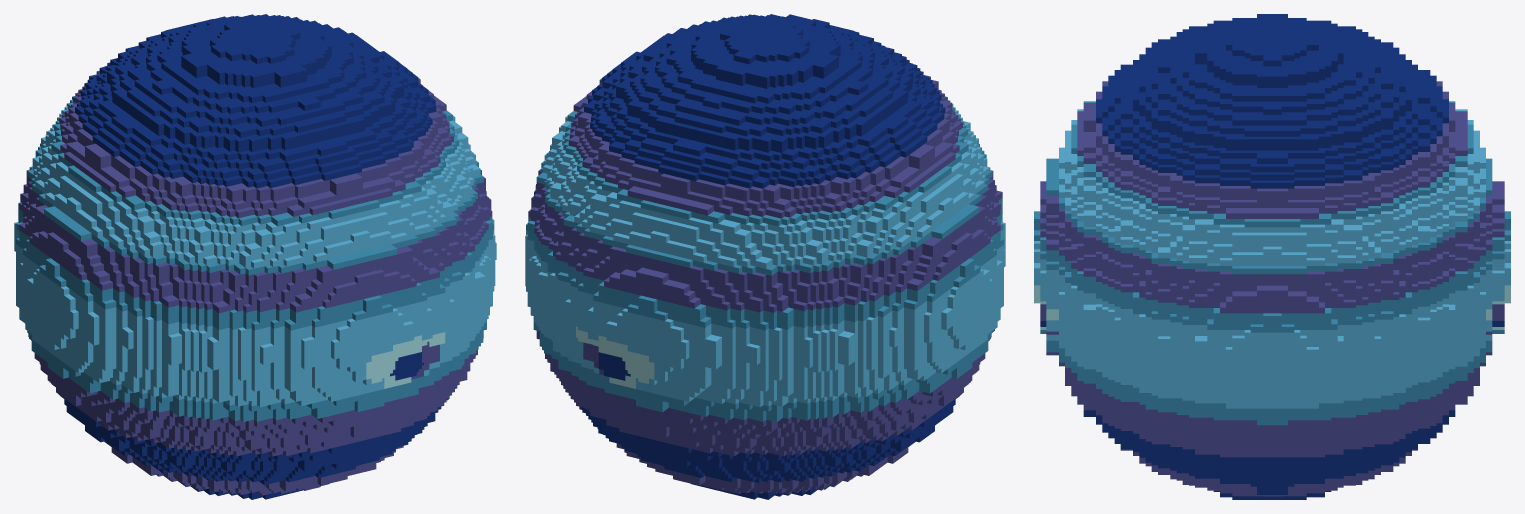
File: neptune.glb
3 views of the same model, side by side, from view 1: azimuth 30°, elevation 25°; view 2: azimuth 150°, elevation 25°; view 3: azimuth 270°, elevation 25° (orthographic).
Visible parts, largest first — view 1: Voxel Naptuen; view 2: Voxel Naptuen; view 3: Voxel Naptuen.
Boxes of the visible parts, x1,y1,x2,y2 form: Voxel Naptuen: (14,14,496,499); Voxel Naptuen: (525,14,1005,499); Voxel Naptuen: (1034,14,1510,499).
Bounding box in the file's own units: 7.7 × 7.7 × 7.7.
1 material, 1 textured.
